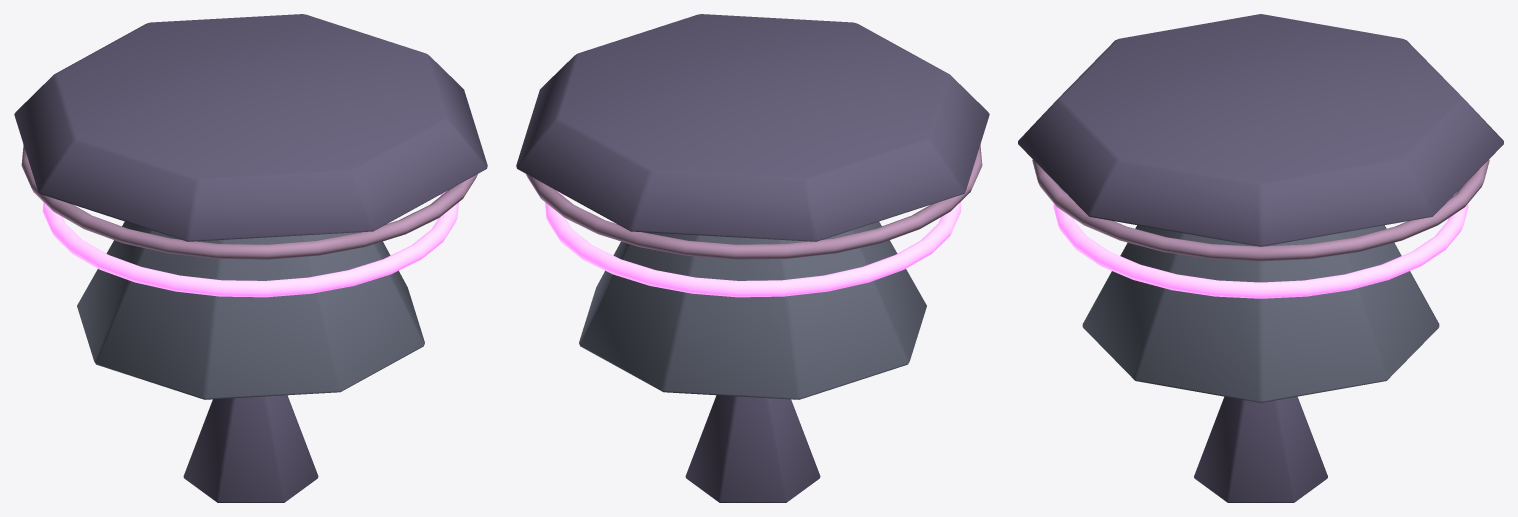
The model's file is floating_island_spire.glb.
3 views of the same model, side by side, from view 1: azimuth 30°, elevation 25°; view 2: azimuth 150°, elevation 25°; view 3: azimuth 270°, elevation 25° (orthographic).
Parts seen in each view (by area): view 1: PropBody_act3_PropObsidian, PropBody_A3_AbyssSteel, PropBody_act3_PropGlow, PropBody_A3_AbyssBronze; view 2: PropBody_act3_PropObsidian, PropBody_A3_AbyssSteel, PropBody_act3_PropGlow, PropBody_A3_AbyssBronze; view 3: PropBody_act3_PropObsidian, PropBody_A3_AbyssSteel, PropBody_act3_PropGlow, PropBody_A3_AbyssBronze.
Part boxes in pixels (x1,y1,x2,y2): PropBody_act3_PropObsidian: (14,14,487,502); PropBody_A3_AbyssSteel: (77,221,424,399); PropBody_act3_PropGlow: (42,190,458,297); PropBody_A3_AbyssBronze: (21,144,477,259); PropBody_act3_PropObsidian: (516,14,989,502); PropBody_A3_AbyssSteel: (579,221,926,399); PropBody_act3_PropGlow: (545,190,961,297); PropBody_A3_AbyssBronze: (526,144,982,259); PropBody_act3_PropObsidian: (1018,14,1503,502); PropBody_A3_AbyssSteel: (1082,225,1439,402); PropBody_act3_PropGlow: (1053,192,1468,298); PropBody_A3_AbyssBronze: (1032,159,1489,261).
Size of the model in its own units: 6.71 by 5.8 by 6.71.
